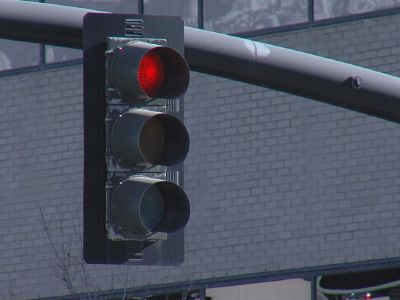trafficlight_red: (108, 38, 190, 245)
